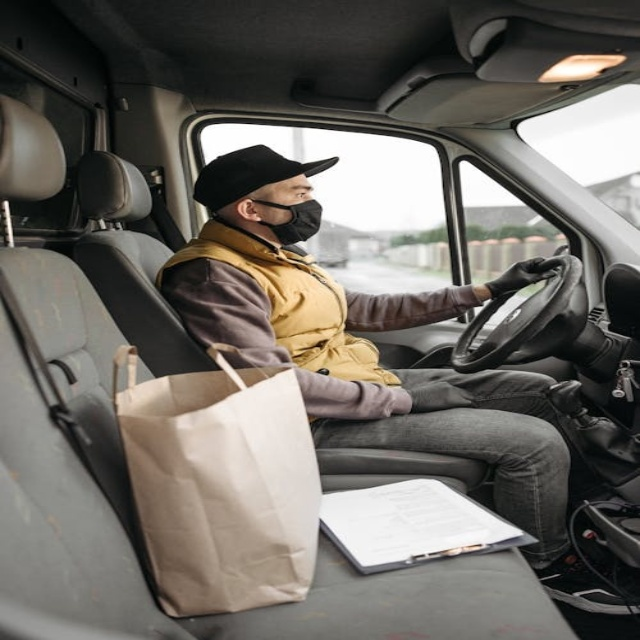Guantes: (481, 256, 567, 299), (403, 380, 478, 413)
Mascara: (254, 198, 324, 244)
Sin_gafas: (273, 183, 316, 198)
